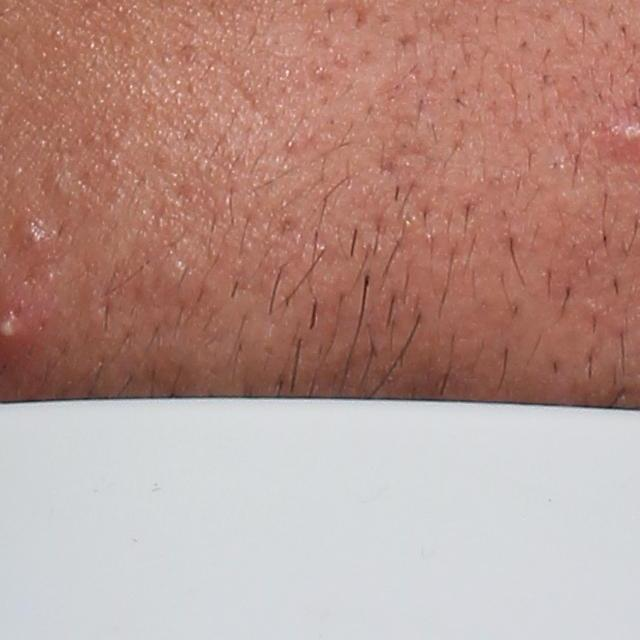papule: (12, 223, 48, 257)
